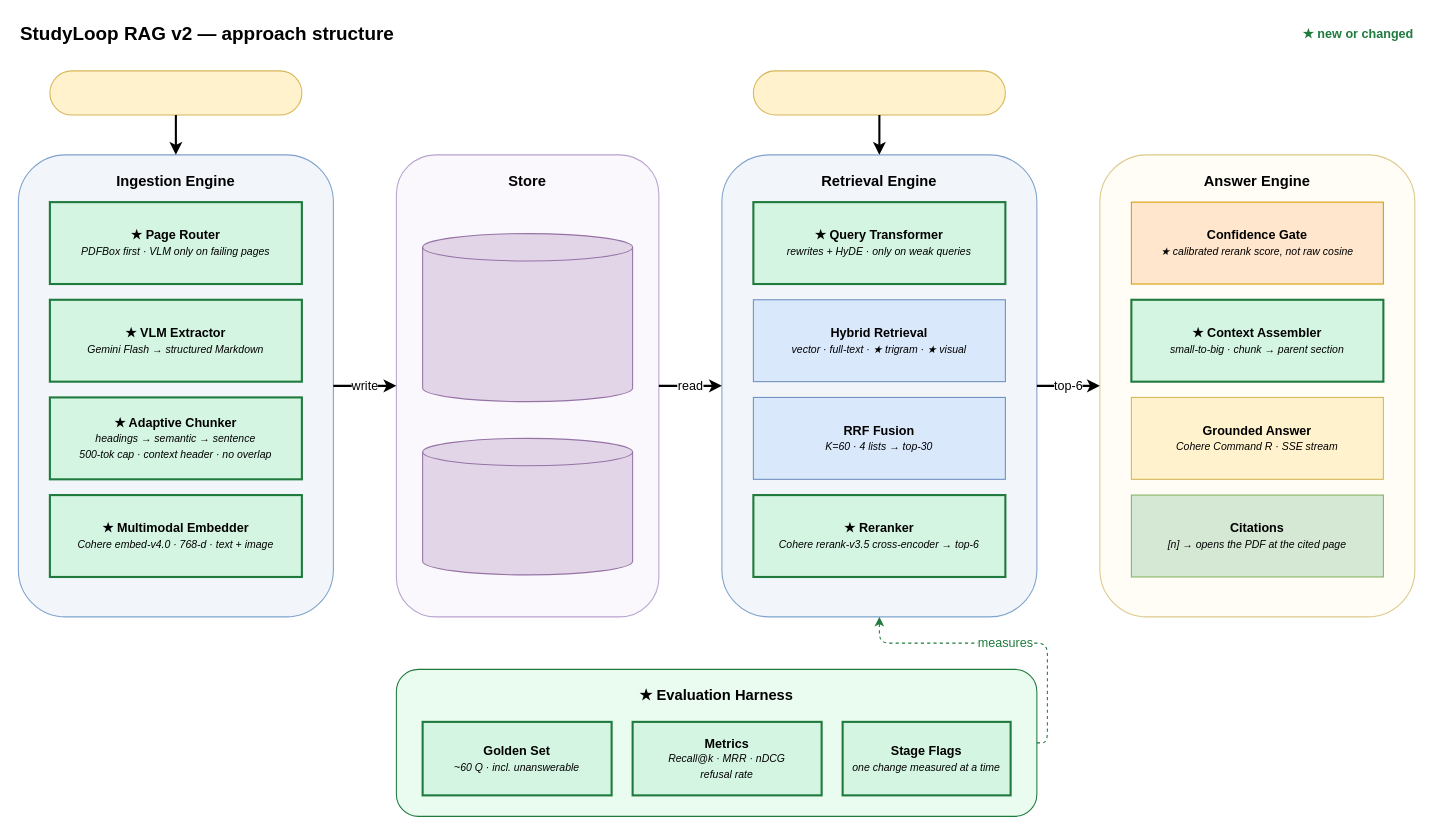
Some shapes in this 1433 by 835 pixel diagram are drawn without their labels. Each missing label, with the centre of its shape:
document_chunks pgvector HNSW tsvector GIN pg_trgm: the point at 527,317
PDF upload: the point at 175,92
Question: the point at 878,92
semantic cache cosine ≥ 0.97: the point at 527,506
